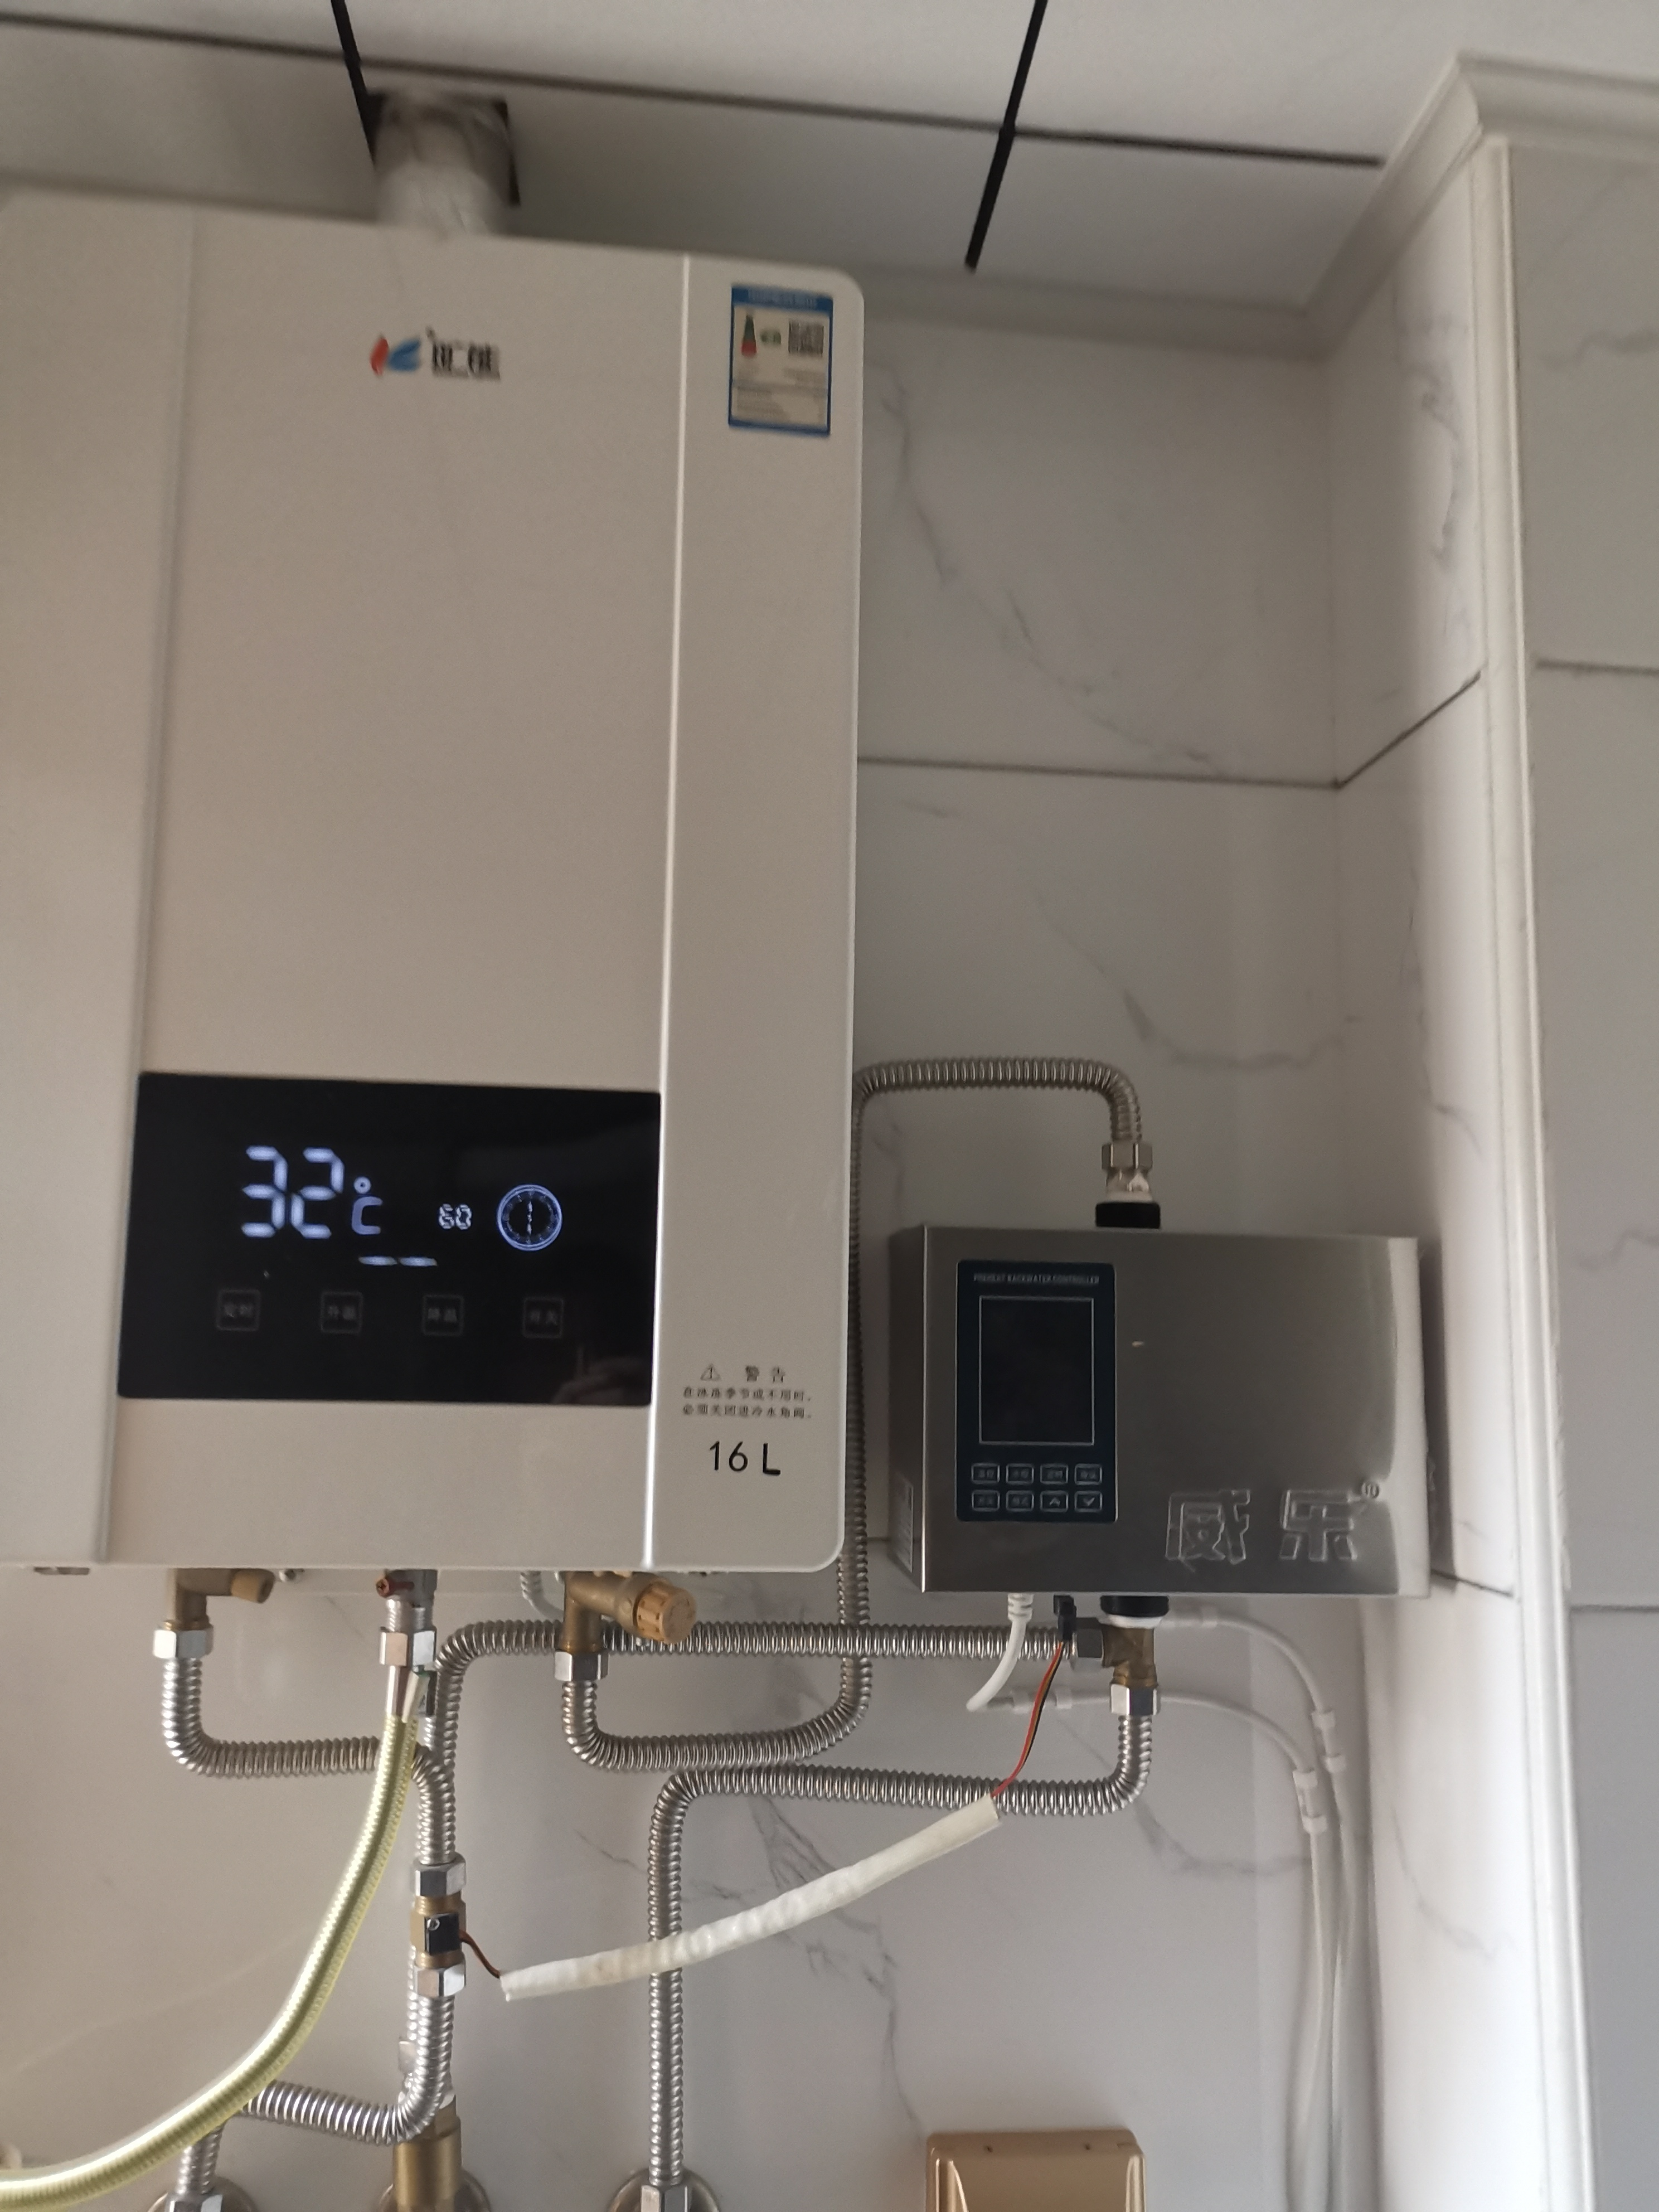loudou: (359, 314, 542, 402)
